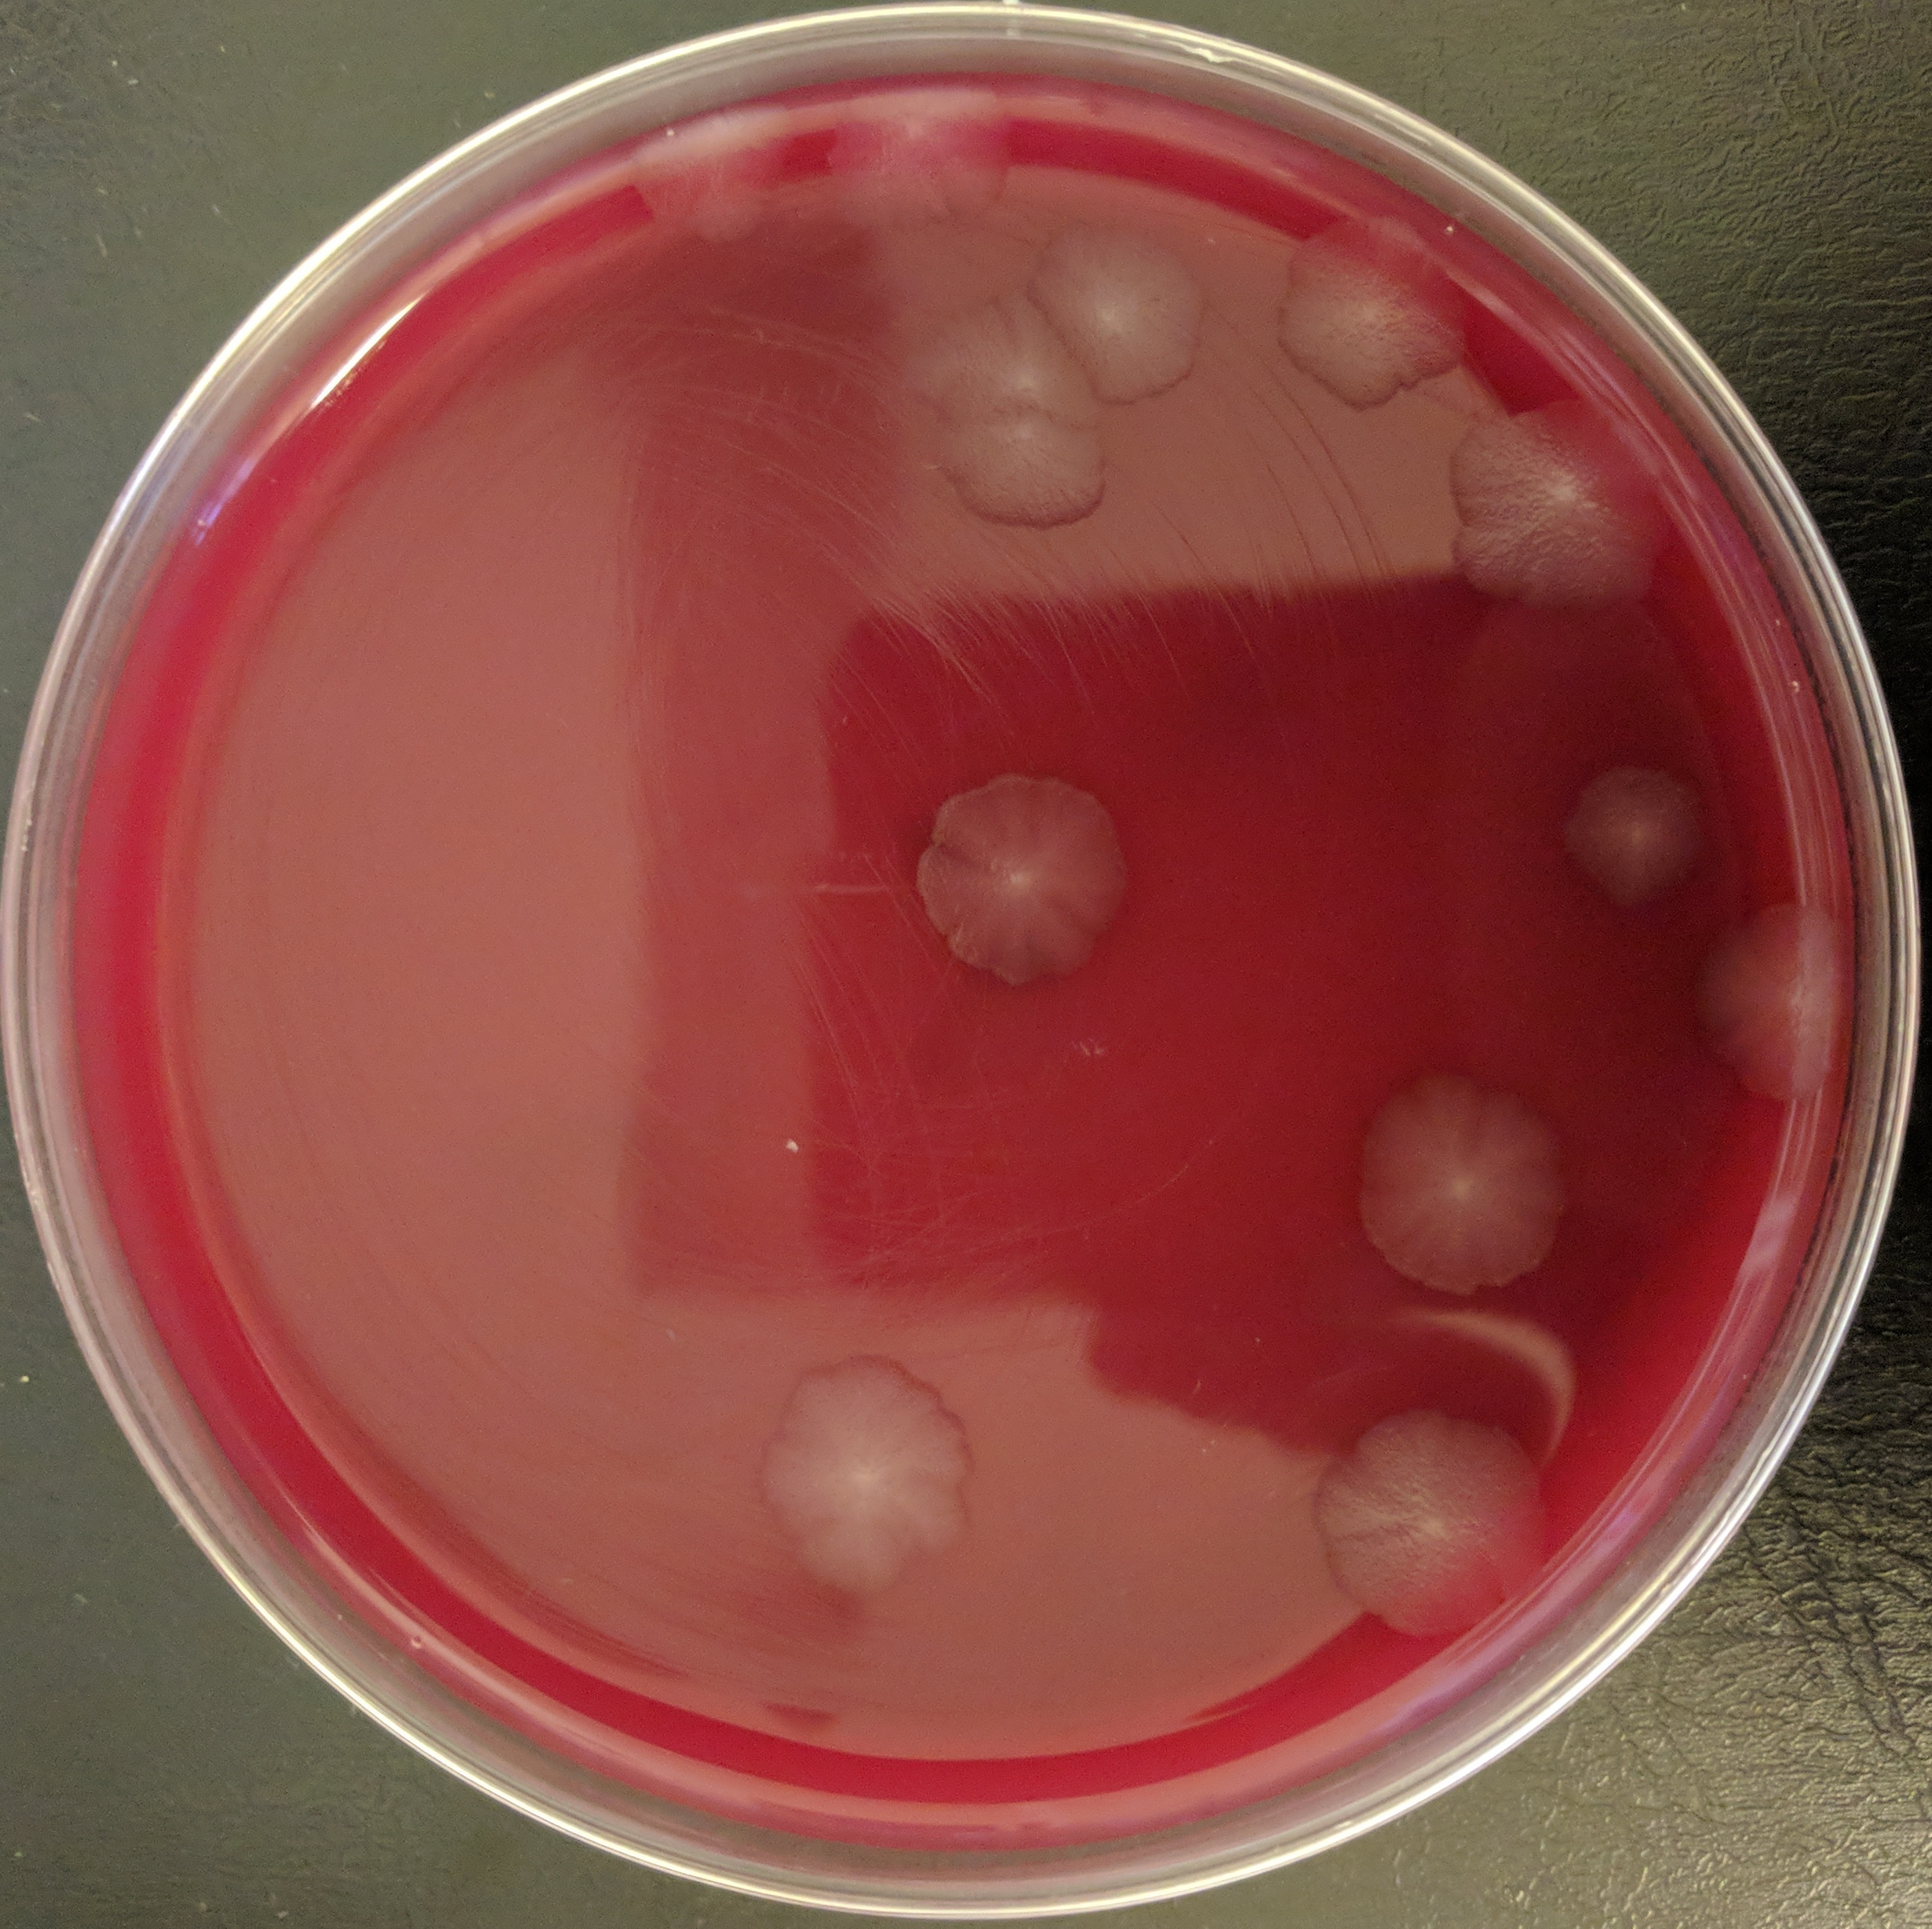sp08: (888, 728, 1153, 1063), (1349, 1058, 1602, 1346), (1219, 191, 1505, 426), (1443, 387, 1692, 654), (751, 1358, 975, 1652), (1294, 1417, 1570, 1643), (911, 348, 1153, 542), (816, 64, 1051, 260), (1033, 221, 1243, 429), (1704, 917, 1916, 1093), (1556, 767, 1725, 966), (646, 115, 823, 299)
